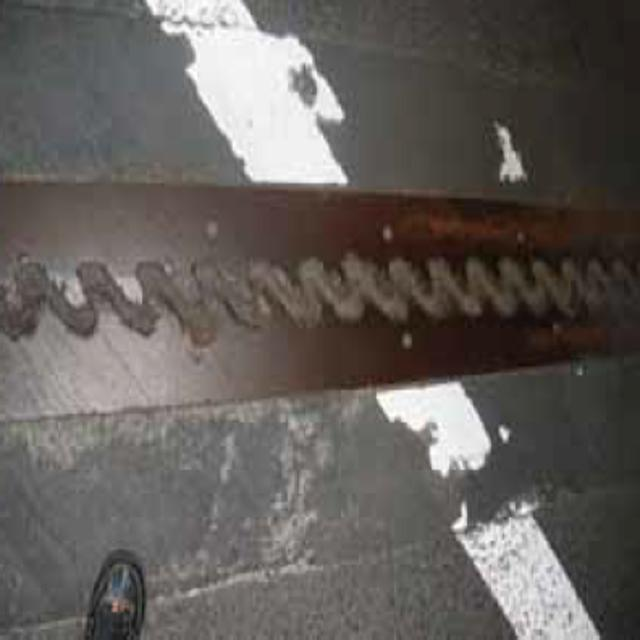corrosion: (10, 156, 619, 400)
